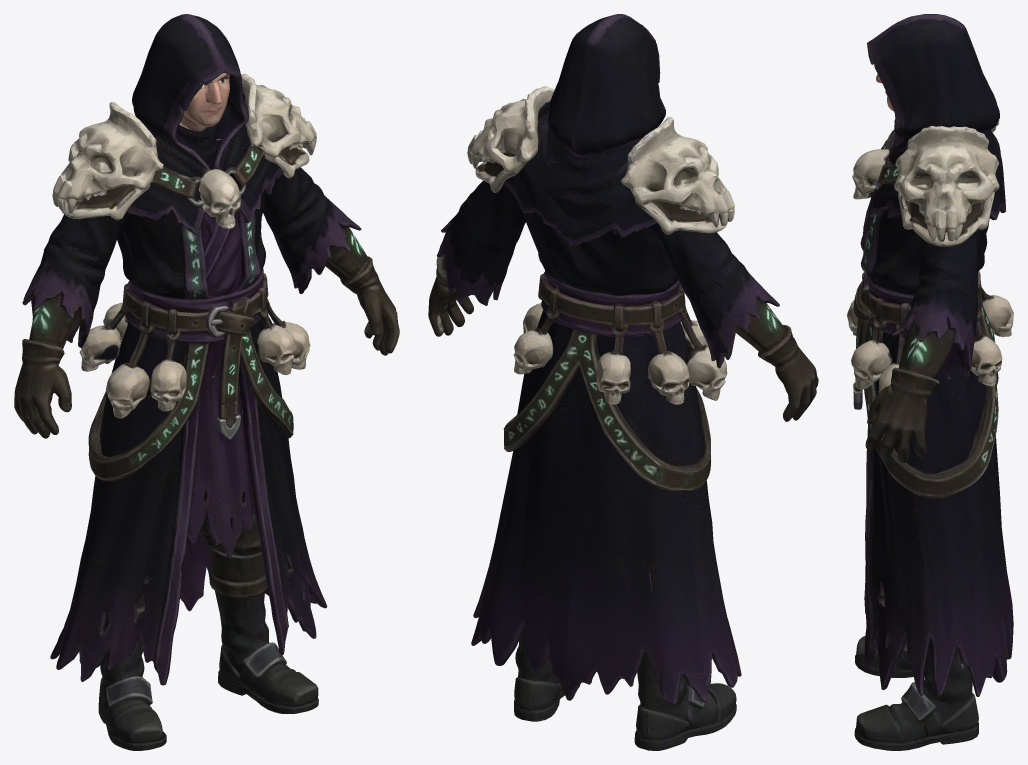
File: necromancer.glb
3 views of the same model, side by side, from view 1: azimuth 30°, elevation 25°; view 2: azimuth 150°, elevation 25°; view 3: azimuth 270°, elevation 25° (orthographic).
Parts seen in each view (by area): view 1: Mesh_0; view 2: Mesh_0; view 3: Mesh_0.
Part boxes in pixels (left/top/right/bottom): Mesh_0: left=14, top=14, right=399, bottom=750; Mesh_0: left=428, top=14, right=818, bottom=750; Mesh_0: left=847, top=14, right=1013, bottom=750.
Size of the model in its own units: 1.07 by 1.9 by 0.4172.
1 material, 1 textured.
